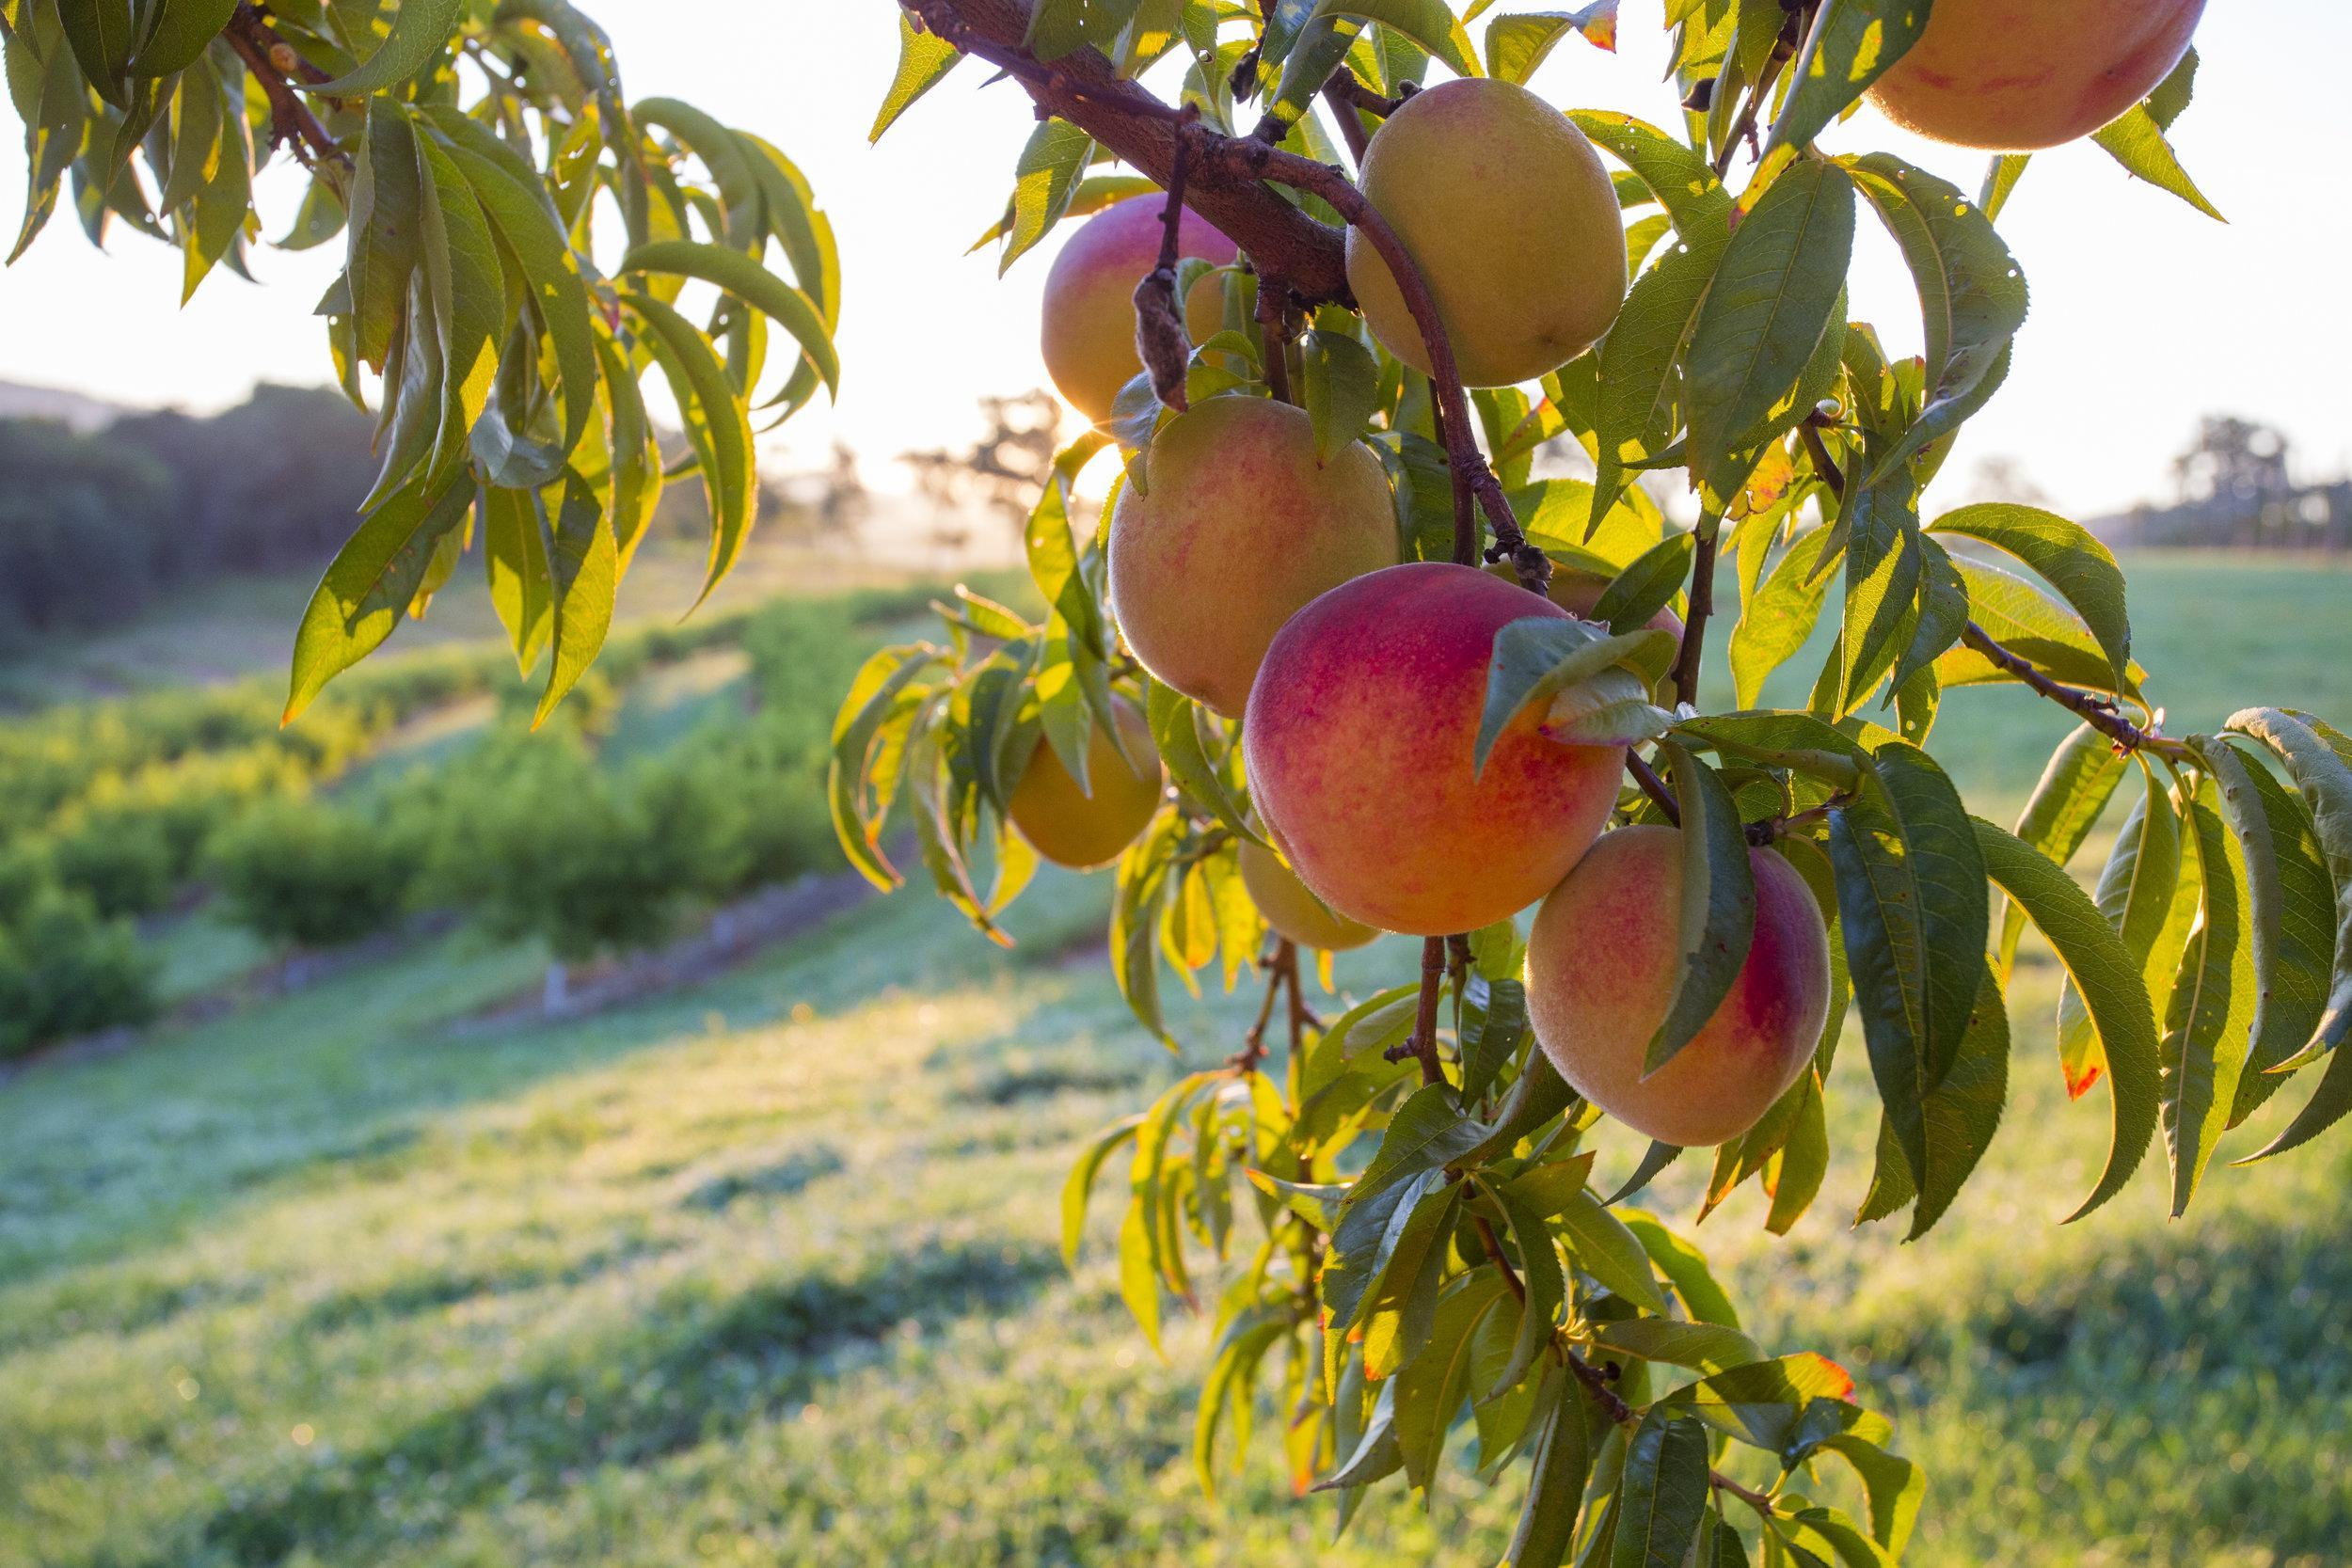apple: (1237, 565, 1631, 945), (1108, 388, 1405, 733), (1528, 833, 1834, 1150), (1351, 77, 1629, 387), (1039, 199, 1258, 425)
